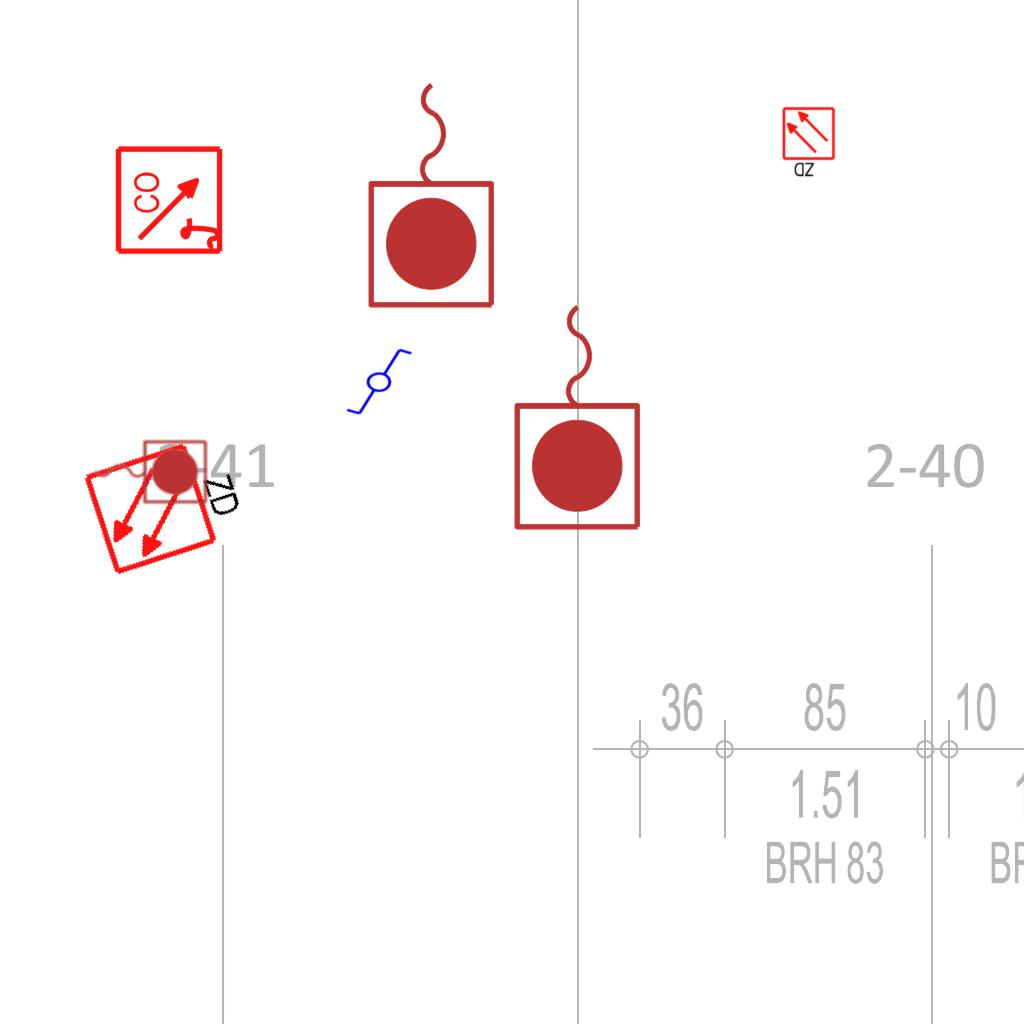ROA_Rauchmelder_optisch_mit_Signalgeber_(Sockelsirene): (114, 143, 227, 256)
Wechselschalter: (336, 345, 414, 417)
ZD_Melder_in_Zwischendecke_mit_Revisionsoeffnung_mind_40_x_40_cm: (79, 424, 257, 579), (781, 106, 838, 180)
Zugtaster: (361, 72, 505, 316), (507, 294, 651, 538), (89, 435, 211, 507)
